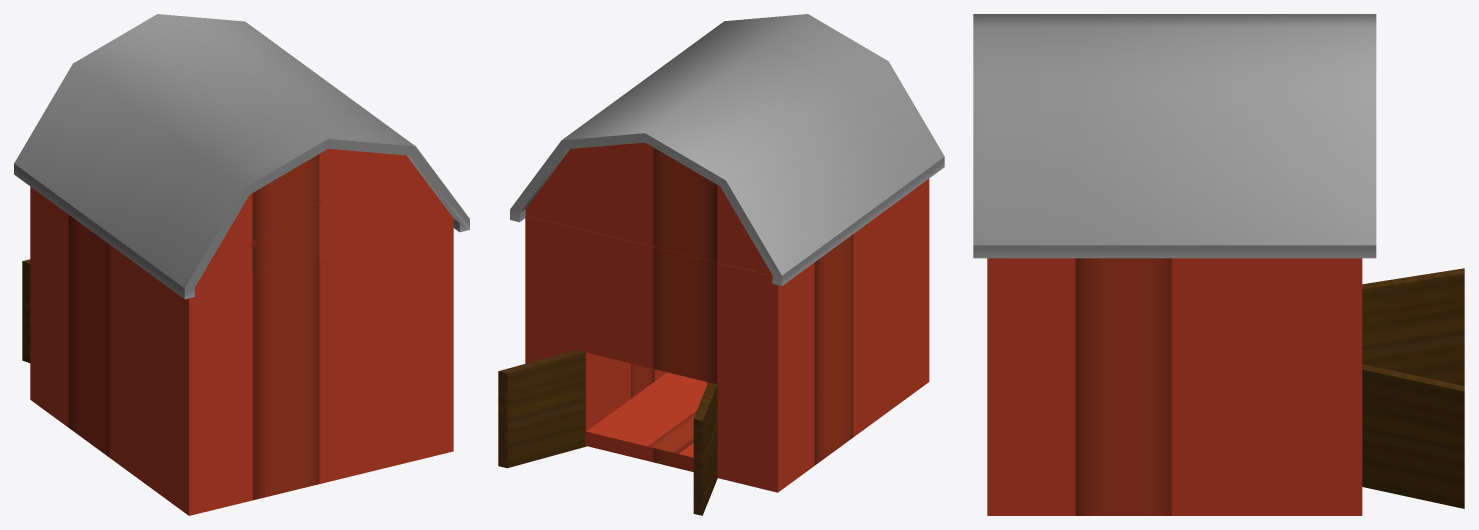
Rendered from Barn.FBX.
3 views of the same model, side by side, from view 1: azimuth 30°, elevation 25°; view 2: azimuth 150°, elevation 25°; view 3: azimuth 270°, elevation 25° (orthographic). The views are drawn at different scales.
Visible parts, largest first — view 1: polySurface15; view 2: polySurface15; view 3: polySurface15.
Boxes of the visible parts, x1,y1,x2,y2 form: polySurface15: (14,14,469,515); polySurface15: (498,14,944,515); polySurface15: (973,14,1464,515).
Size of the model in its own units: 14.54 by 17.06 by 18.38.
